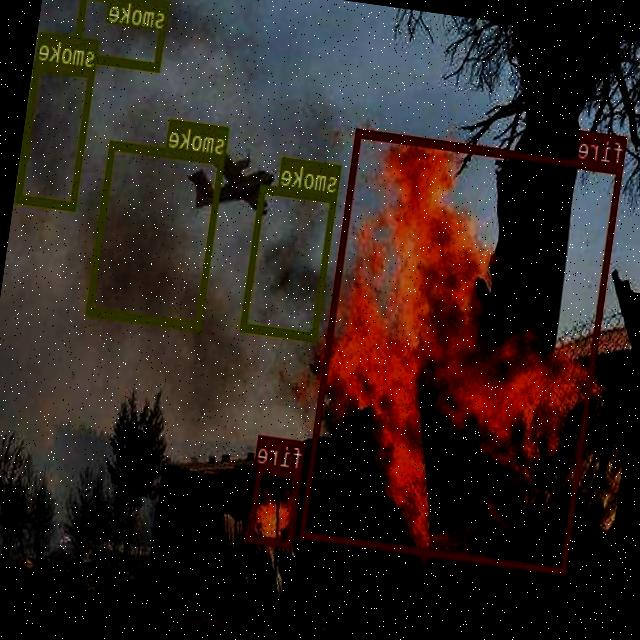fire: (300, 128, 624, 575), (248, 463, 303, 547)
smoke: (87, 140, 226, 330), (242, 184, 338, 341), (17, 60, 96, 209), (74, 0, 170, 69)
